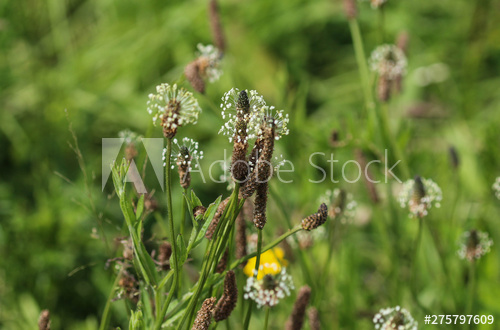buckhorn plantain: (73, 78, 343, 330)
